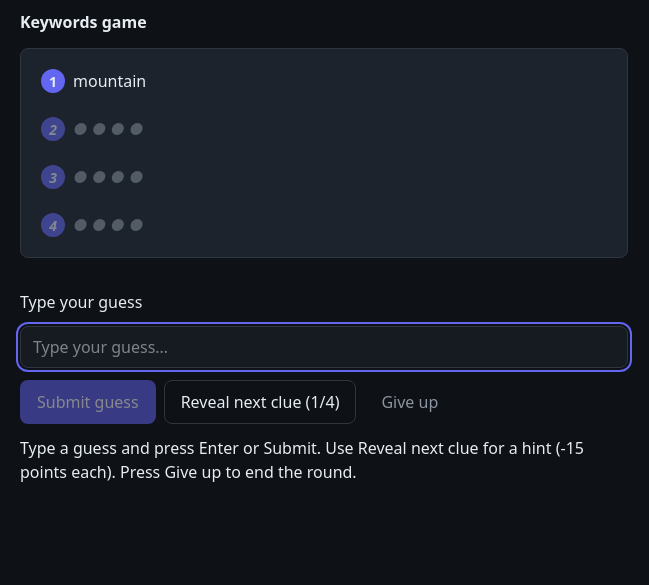
it: KeywordsGame — wrong guess › records a wrong guess and announces it without ending the round
Type "Mountain" into the text box labelled "Type your guess". click: (324, 347)
box: [20,326,628,368]
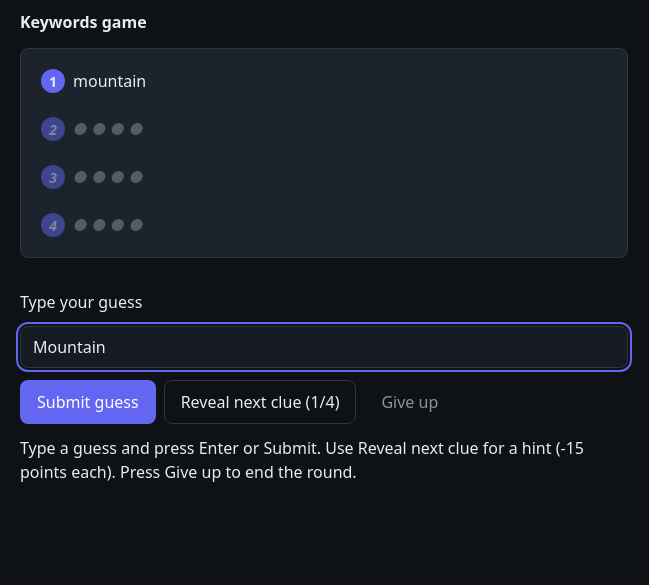
Click the button "Submit guess". click: (88, 402)
box: [20,380,156,424]
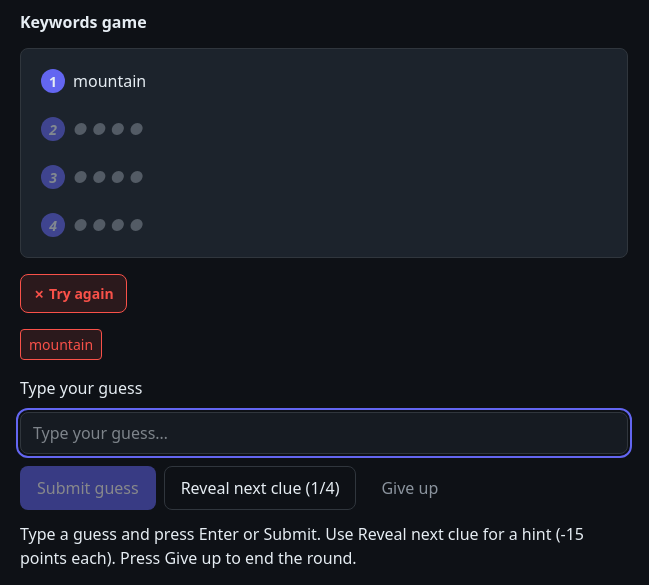
Check: the element named "Previous wrong guesses" reads "mountain", box [29,335,93,354]
Check: the text box labelled "Type your guess" is empty, box [20,412,628,454]
